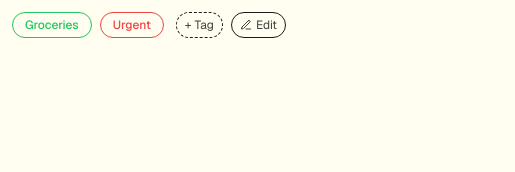
TagFilter › shows create form when + Tag button is clicked
Click the button with aria-label "Add tag" at (199, 25), box [176,12,223,38]
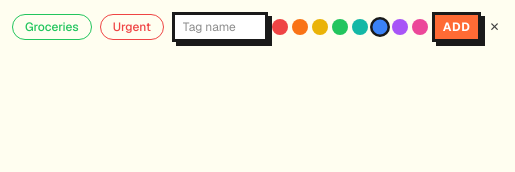
Now the field with placeholder "Tag name" is shown, box [172,12,268,42]
